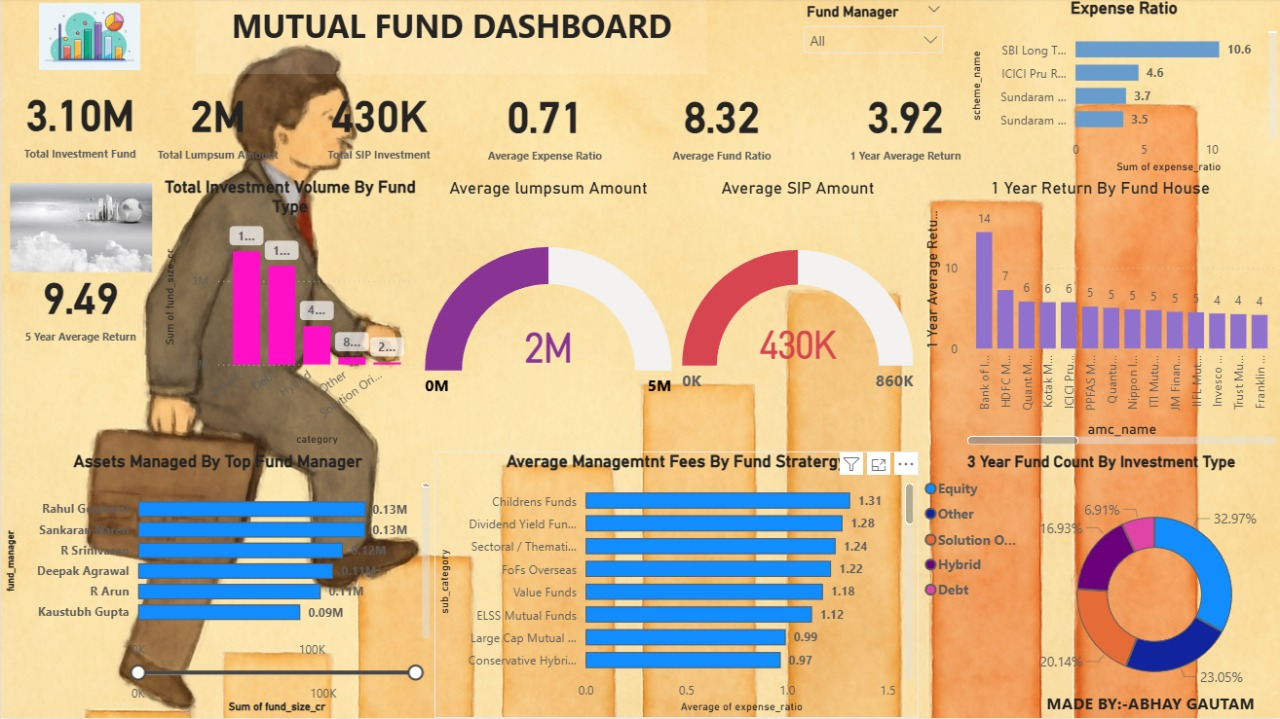

What the dashboard file says about the page in this screenshot:
{"tool":"powerbi","page":{"name":"Page 1","canvas":[1280,720],"ordinal":0},"visuals":[{"type":"cardVisual","fields":{"Data":["comprehensive_mutual_funds_data.Total Investment Fund"]},"box":[0,75.9,158.5,103.1],"z":0},{"type":"cardVisual","fields":{"Data":["comprehensive_mutual_funds_data.Total Lumpsum Amount"]},"box":[139.1,76.8,155.6,102.1],"z":1000},{"type":"cardVisual","fields":{"Data":["comprehensive_mutual_funds_data.Total SIP Investment"]},"box":[287.9,76.8,179.9,103.1],"z":2000},{"type":"cardVisual","fields":{"Data":["comprehensive_mutual_funds_data.Average Expense Ratio"]},"box":[458.1,77.8,170.2,102.1],"z":3000},{"type":"cardVisual","fields":{"Data":["comprehensive_mutual_funds_data.Average Fund Age (Years)"]},"box":[628.3,77.8,183.8,102.1],"z":4000},{"type":"cardVisual","fields":{"Data":["comprehensive_mutual_funds_data.1 Year Average Return"]},"box":[812.2,77.8,182.9,102.1],"z":5000},{"type":"barChart","title":"Assets Managed By Top Fund Manager","fields":{"Category":["comprehensive_mutual_funds_data.fund_manager"],"Y":["comprehensive_mutual_funds_data.fund_size_cr"]},"box":[0,453.7,433.2,265.9],"z":6000},{"type":"barChart","title":"Average Managemtnt Fees By Fund Stratergy","fields":{"Category":["comprehensive_mutual_funds_data.sub_category"],"Y":["comprehensive_mutual_funds_data.expense_ratio"]},"box":[433.2,453.7,483.5,265.9],"z":7000},{"type":"donutChart","title":"3 Year Fund Count By Investment Type","fields":{"Y":["comprehensive_mutual_funds_data.3 Year Average Return"],"Category":["comprehensive_mutual_funds_data.category"]},"box":[917,454,363,266],"z":8000},{"type":"columnChart","title":"1 Year Return By Fund House","fields":{"Category":["comprehensive_mutual_funds_data.amc_name"],"Y":["comprehensive_mutual_funds_data.1 Year Average Return"]},"box":[916.2,179.9,362.8,271.4],"z":9000},{"type":"gauge","title":"Average SIP Amount","fields":{"Y":["comprehensive_mutual_funds_data.min_sip"]},"box":[675,179.9,241.2,271.4],"z":10000},{"type":"gauge","title":"Average lumpsum Amount","fields":{"Y":["comprehensive_mutual_funds_data.min_lumpsum"]},"box":[418.2,179.9,256.8,273.3],"z":11000},{"type":"lineStackedColumnComboChart","title":"Total Investment Volume By Fund Type","fields":{"Category":["comprehensive_mutual_funds_data.category"],"Y":["comprehensive_mutual_funds_data.fund_size_cr"]},"box":[158.5,179,260.7,272.3],"z":12000},{"type":"cardVisual","fields":{"Data":["comprehensive_mutual_funds_data.5 Year Average Return"]},"box":[0,259,159,101],"z":13000},{"type":"slicer","fields":{"Values":["comprehensive_mutual_funds_data.fund_manager"]},"box":[792,0,159,93],"z":14000},{"type":"textbox","box":[195,0,511,76],"z":15000},{"type":"image","box":[0,0,176,77],"z":16000},{"type":"image","box":[0,180,159,99],"z":17000},{"type":"barChart","title":"Expense Ratio","fields":{"Category":["comprehensive_mutual_funds_data.scheme_name"],"Y":["comprehensive_mutual_funds_data.expense_ratio"]},"box":[964,0,315,179],"z":18000},{"type":"textbox","box":[1039,689,240,31],"z":18001}]}

Visuals, with their boxes in screenshot pixels (x1, y1, x2, y2), scaled from the page's 1280x720 canvas onto the 1280x719 screenshot:
cardVisual - comprehensive_mutual_funds_data.Total Investment Fund: region(0, 76, 158, 179)
cardVisual - comprehensive_mutual_funds_data.Total Lumpsum Amount: region(139, 77, 295, 179)
cardVisual - comprehensive_mutual_funds_data.Total SIP Investment: region(288, 77, 468, 180)
cardVisual - comprehensive_mutual_funds_data.Average Expense Ratio: region(458, 78, 628, 180)
cardVisual - comprehensive_mutual_funds_data.Average Fund Age (Years): region(628, 78, 812, 180)
cardVisual - comprehensive_mutual_funds_data.1 Year Average Return: region(812, 78, 995, 180)
"Assets Managed By Top Fund Manager" barChart: region(0, 453, 433, 718)
"Average Managemtnt Fees By Fund Stratergy" barChart: region(433, 453, 917, 718)
"3 Year Fund Count By Investment Type" donutChart: region(917, 453, 1279, 718)
"1 Year Return By Fund House" columnChart: region(916, 180, 1279, 451)
"Average SIP Amount" gauge: region(675, 180, 916, 451)
"Average lumpsum Amount" gauge: region(418, 180, 675, 453)
"Total Investment Volume By Fund Type" lineStackedColumnComboChart: region(158, 179, 419, 451)
cardVisual - comprehensive_mutual_funds_data.5 Year Average Return: region(0, 259, 159, 360)
slicer - comprehensive_mutual_funds_data.fund_manager: region(792, 0, 951, 93)
textbox: region(195, 0, 706, 76)
image: region(0, 0, 176, 77)
image: region(0, 180, 159, 279)
"Expense Ratio" barChart: region(964, 0, 1279, 179)
textbox: region(1039, 688, 1279, 718)
